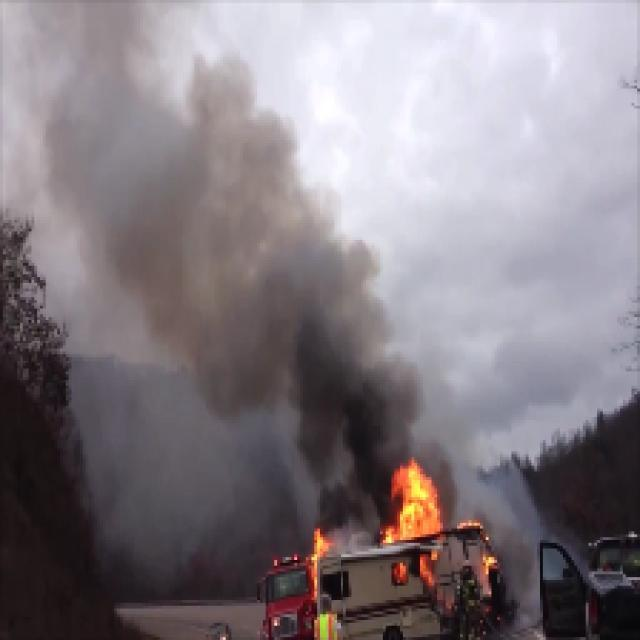Fire: (376, 459, 452, 542), (312, 536, 339, 640)
Smoke: (15, 15, 423, 520)
